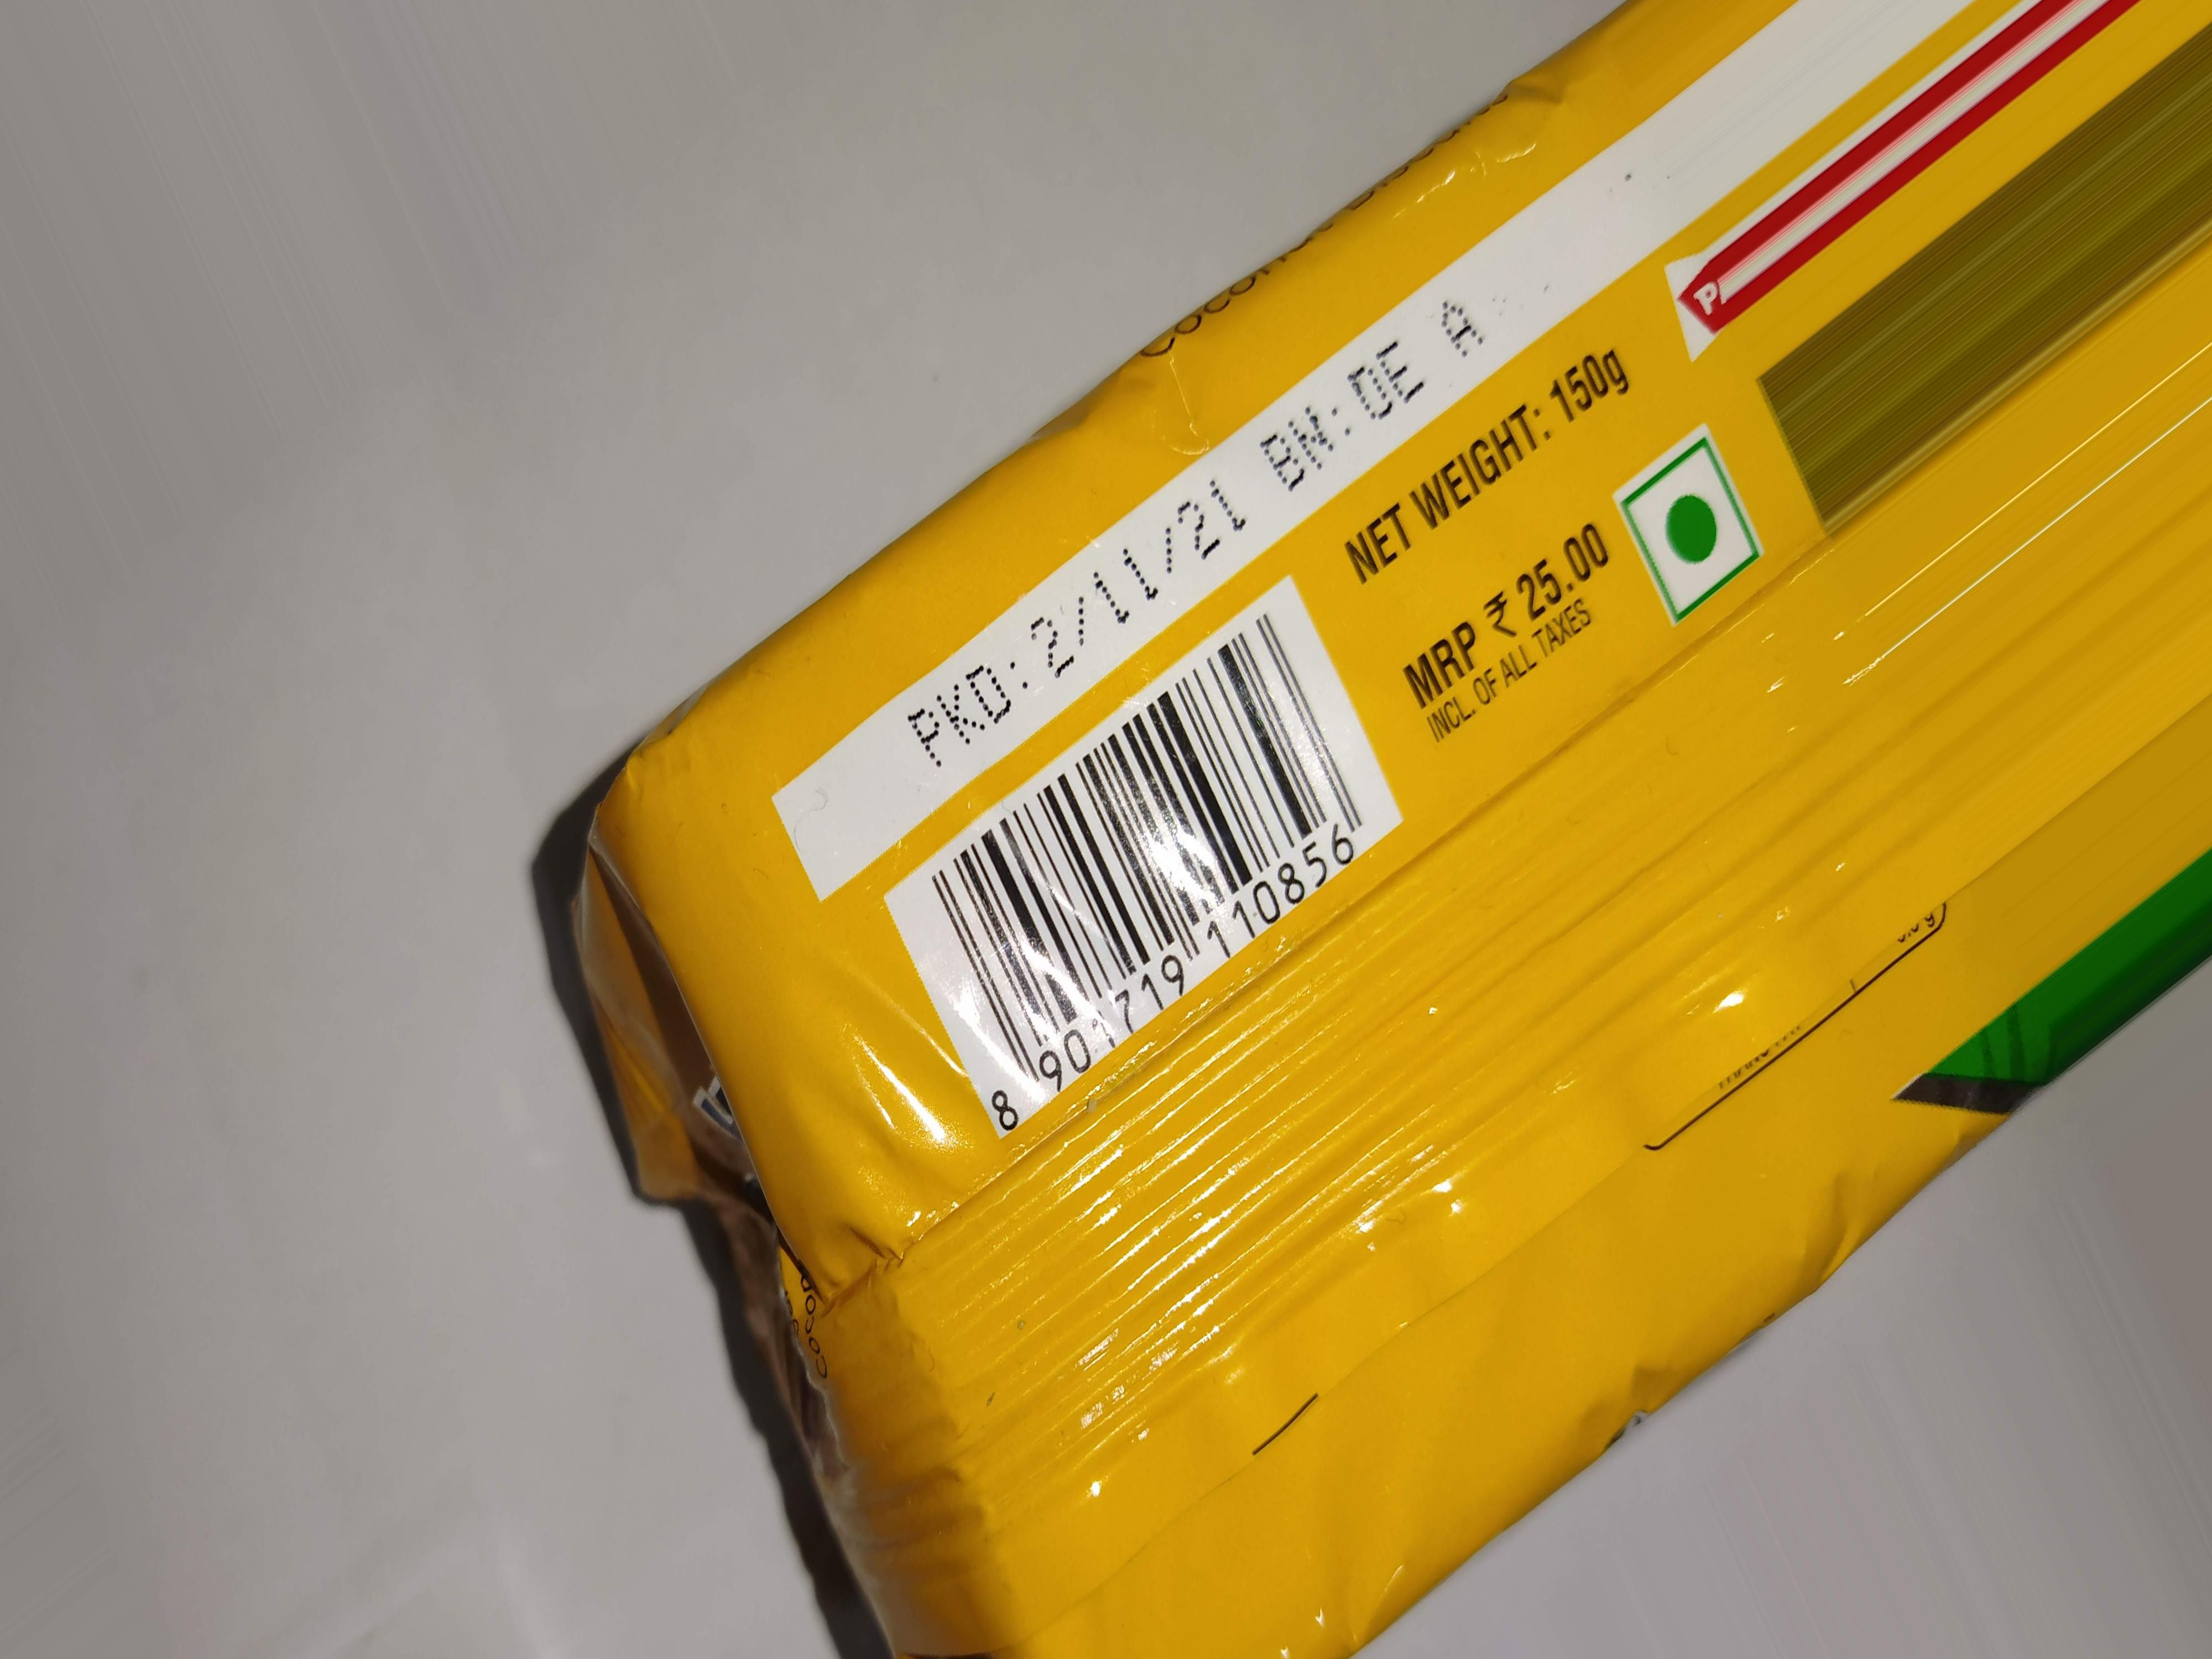Bar_code: (860, 662, 1517, 1133)
Item: (336, 19, 2212, 1659)
